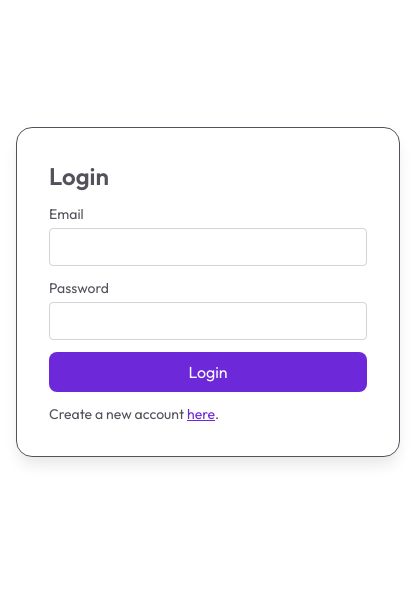
Test: Login Flow › should navigate to signup page when clicking create account link
The width and height of the screenshot is (417, 594).
Click the text "here" at (201, 414), box [187,405,215,423]
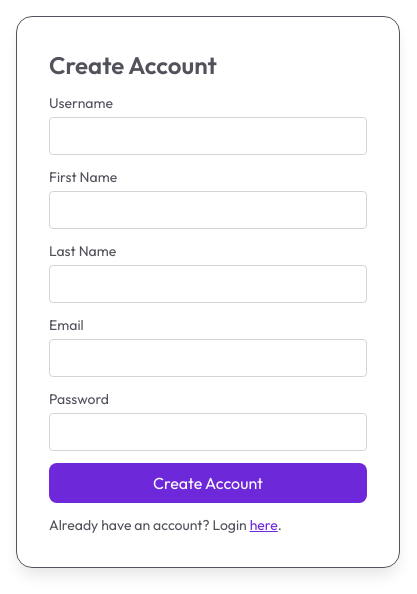
Expected: the heading "Create Account" is shown, [49,49,217,81]
Expected: the field labelled "Username" is shown, [49,117,367,155]
Expected: the field labelled "First Name" is shown, [49,191,367,229]
